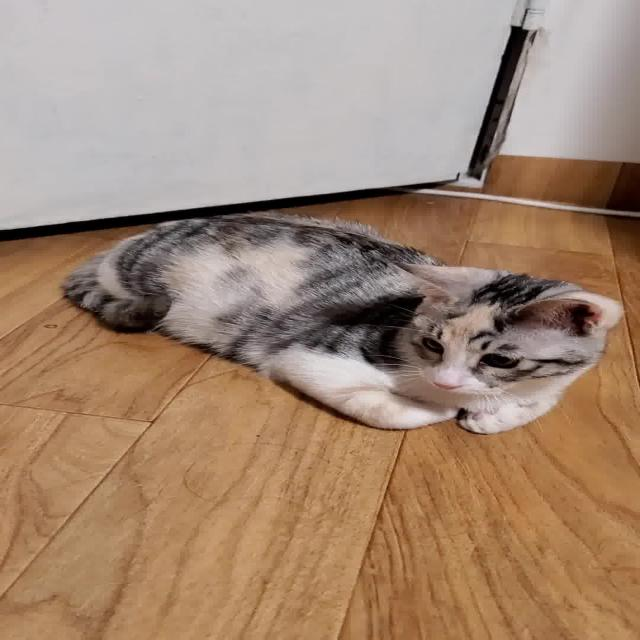cat: (53, 193, 636, 447)
